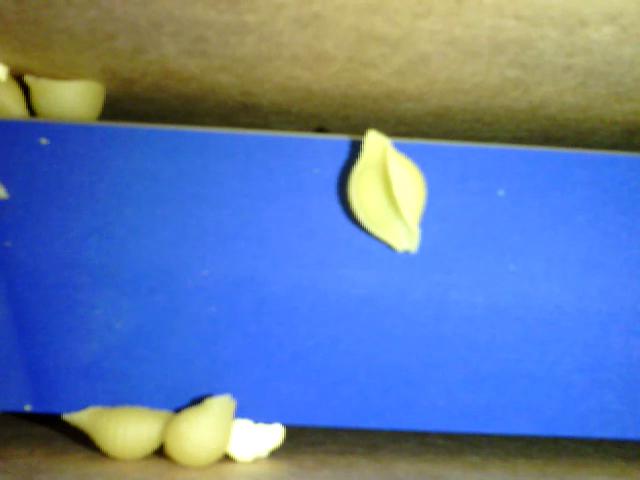shell: (340, 129, 431, 255), (62, 409, 186, 461), (164, 390, 238, 469), (22, 74, 106, 126)
